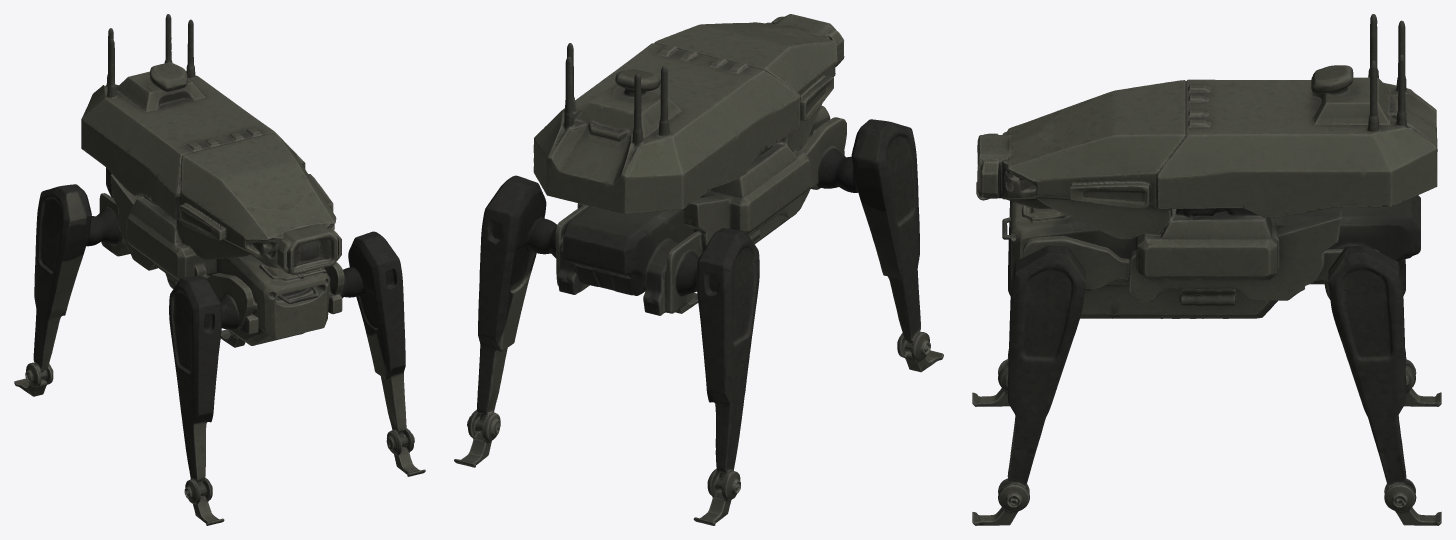
Rendered from vehicule-blinde-compact-pbr-v2.glb.
3 renders of one model, left to right at view 1: azimuth 30°, elevation 25°; view 2: azimuth 150°, elevation 25°; view 3: azimuth 270°, elevation 25°, orthographic. The views are drawn at different scales.
Bounding box in the file's own units: 1.34 × 2 × 2.
Materials: 1 (1 with a texture image).
